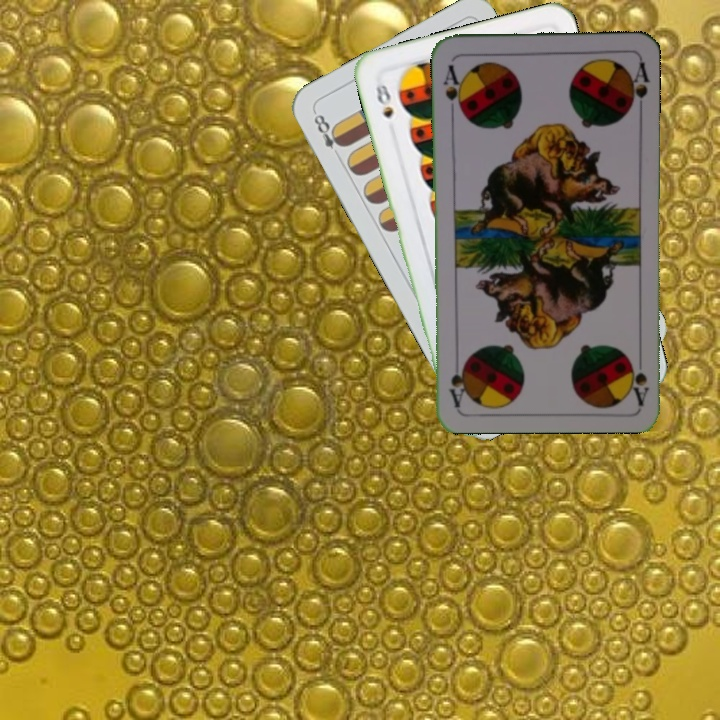E8: (309, 108, 348, 152)
S8: (371, 75, 396, 121)
SA: (625, 347, 652, 406), (439, 61, 465, 117)
